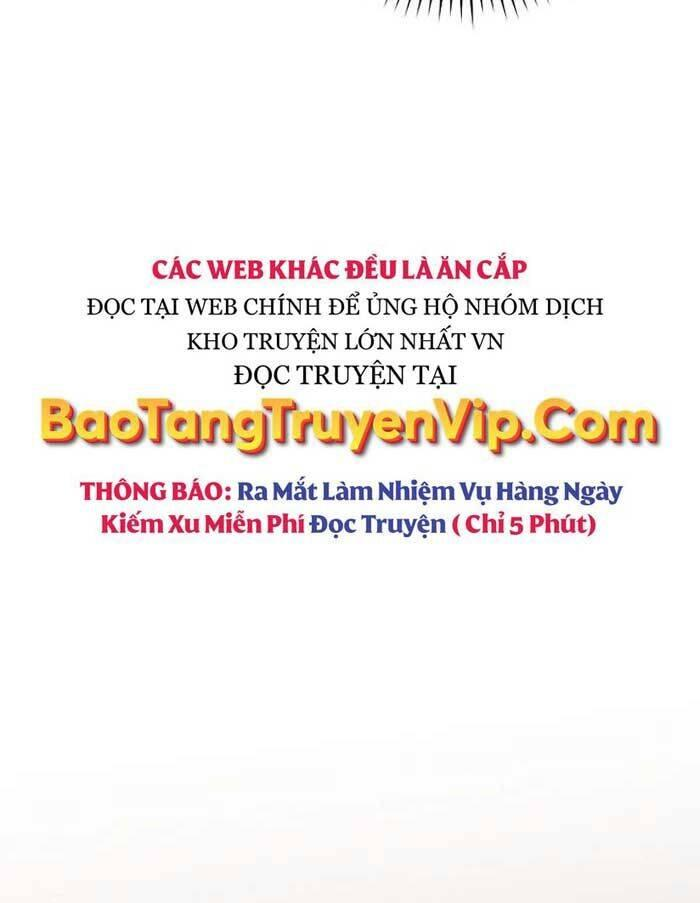quangcao: (37, 251, 668, 543)
